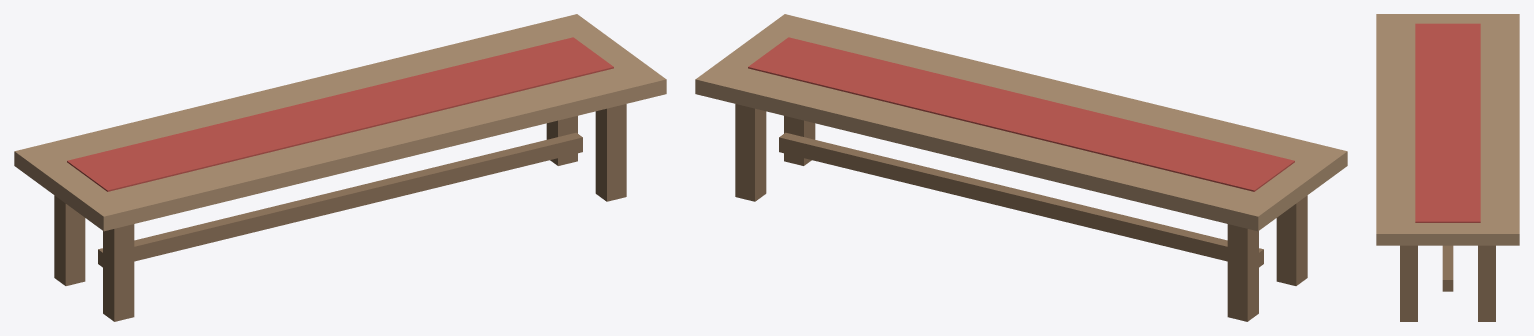
The model's file is long_table.glb.
The picture shows the model from 3 angles, left to right: view 1: azimuth 30°, elevation 25°; view 2: azimuth 150°, elevation 25°; view 3: azimuth 270°, elevation 25°; orthographic projection. The views are drawn at different scales.
Visible parts, largest first — view 1: long_table; view 2: long_table; view 3: long_table.
Part boxes in pixels (bbox=[...]): long_table: bbox=[14, 14, 666, 321]; long_table: bbox=[695, 14, 1347, 321]; long_table: bbox=[1376, 14, 1519, 321].
Bounding box in the file's own units: 4 × 0.8399 × 1.1.
